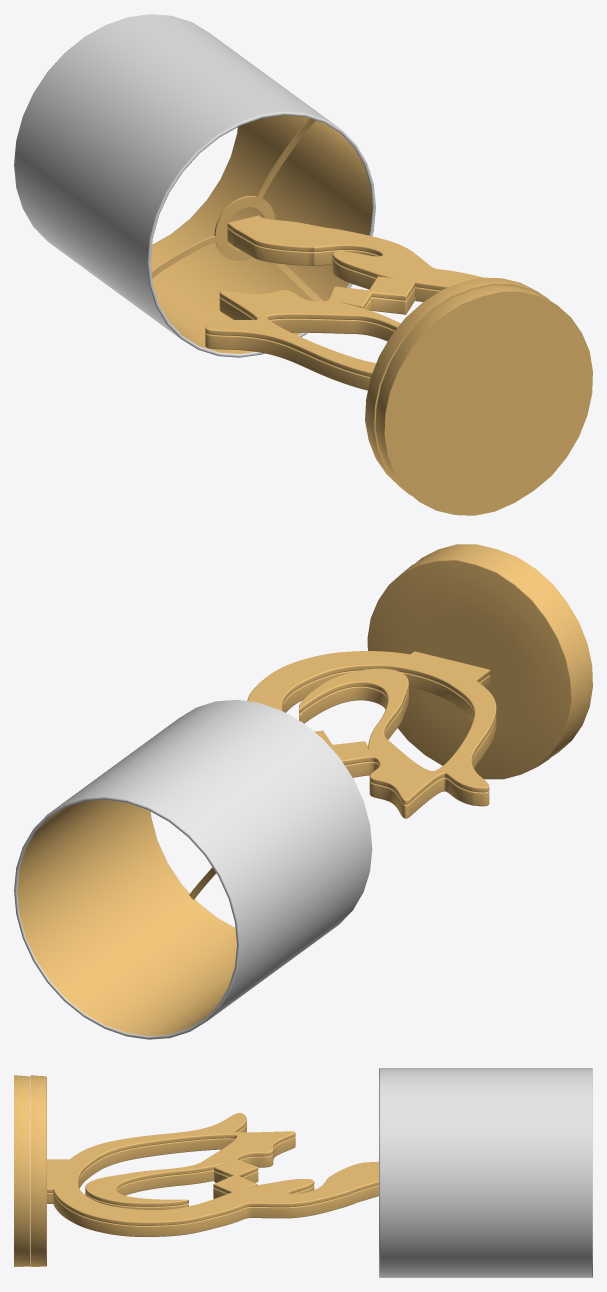
The picture shows the model from 3 angles, top to bottom: view 1: azimuth 30°, elevation 25°; view 2: azimuth 150°, elevation 25°; view 3: azimuth 270°, elevation 25°; orthographic projection. The views are drawn at different scales.
Visible parts, largest first — view 1: MariamLamp.002; view 2: MariamLamp.002; view 3: MariamLamp.002.
Boxes of the visible parts, x1=… form: MariamLamp.002: x1=14, y1=14, x2=592, y2=515; MariamLamp.002: x1=14, y1=544, x2=592, y2=1039; MariamLamp.002: x1=14, y1=1068, x2=592, y2=1277.
Bounding box in the file's own units: 21228 × 17213 × 47418.
